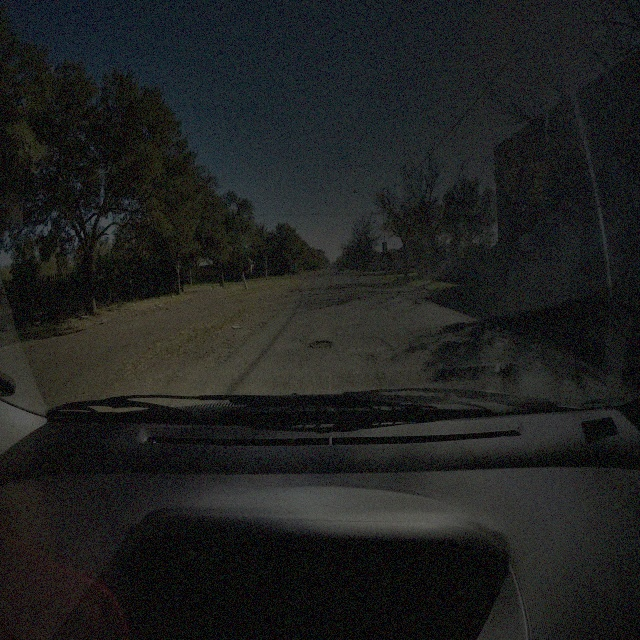pothole: (307, 340, 333, 350), (365, 352, 375, 360)
